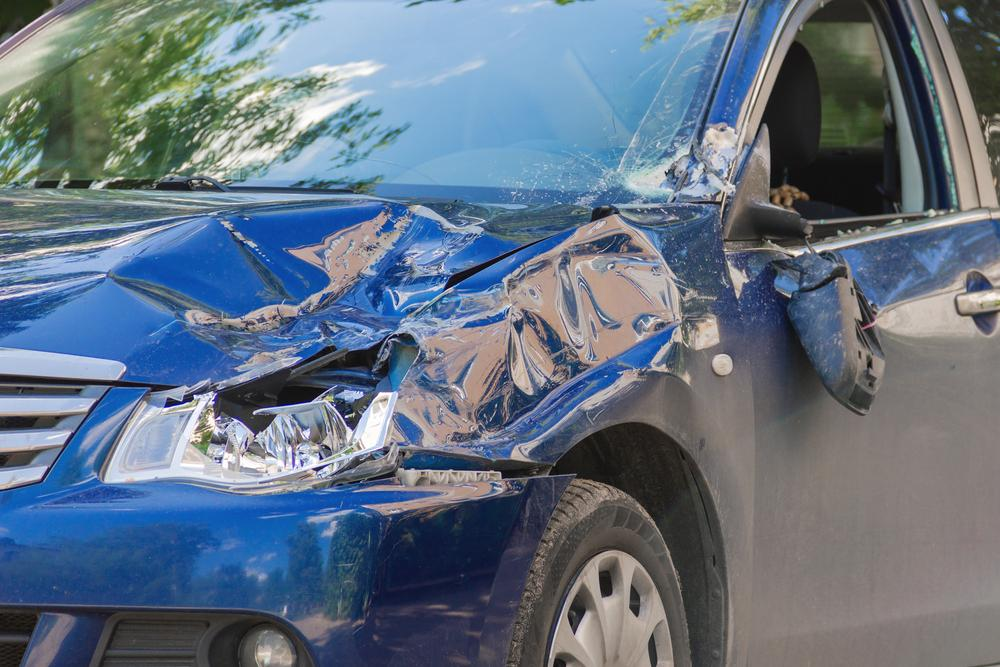dent: (386, 219, 680, 455), (109, 205, 492, 371)
glass shatter: (0, 0, 746, 206)
lamp broken: (104, 333, 417, 495)
